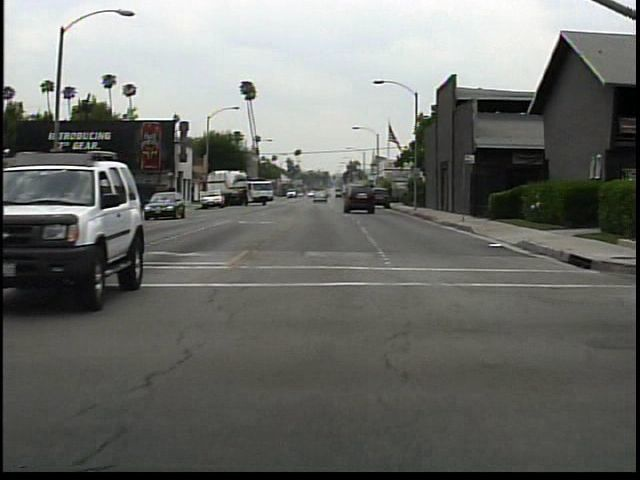person: (75, 181, 97, 222)
